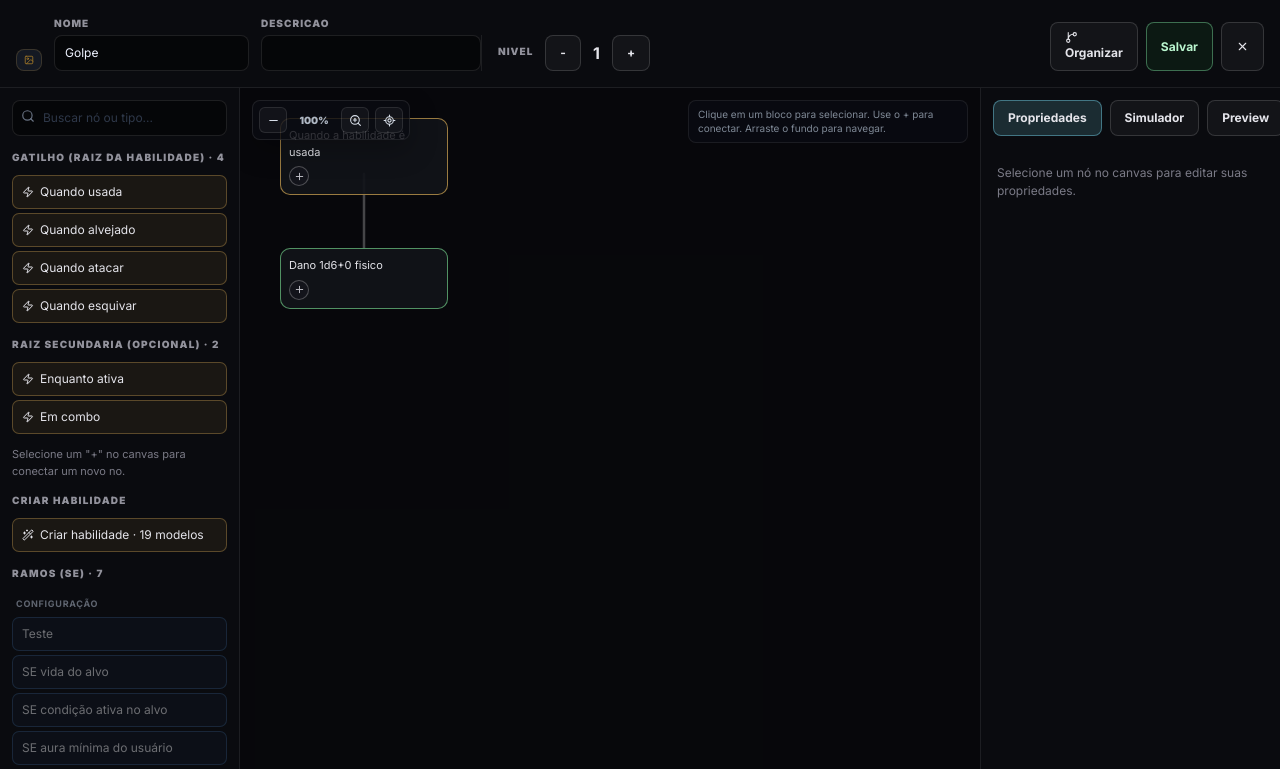
Scenario: GraphEditor › aba Simulador roda a simulação
Click the button "Simulador".
click(1154, 118)  # box top-left (1110, 100), bottom-right (1199, 136)
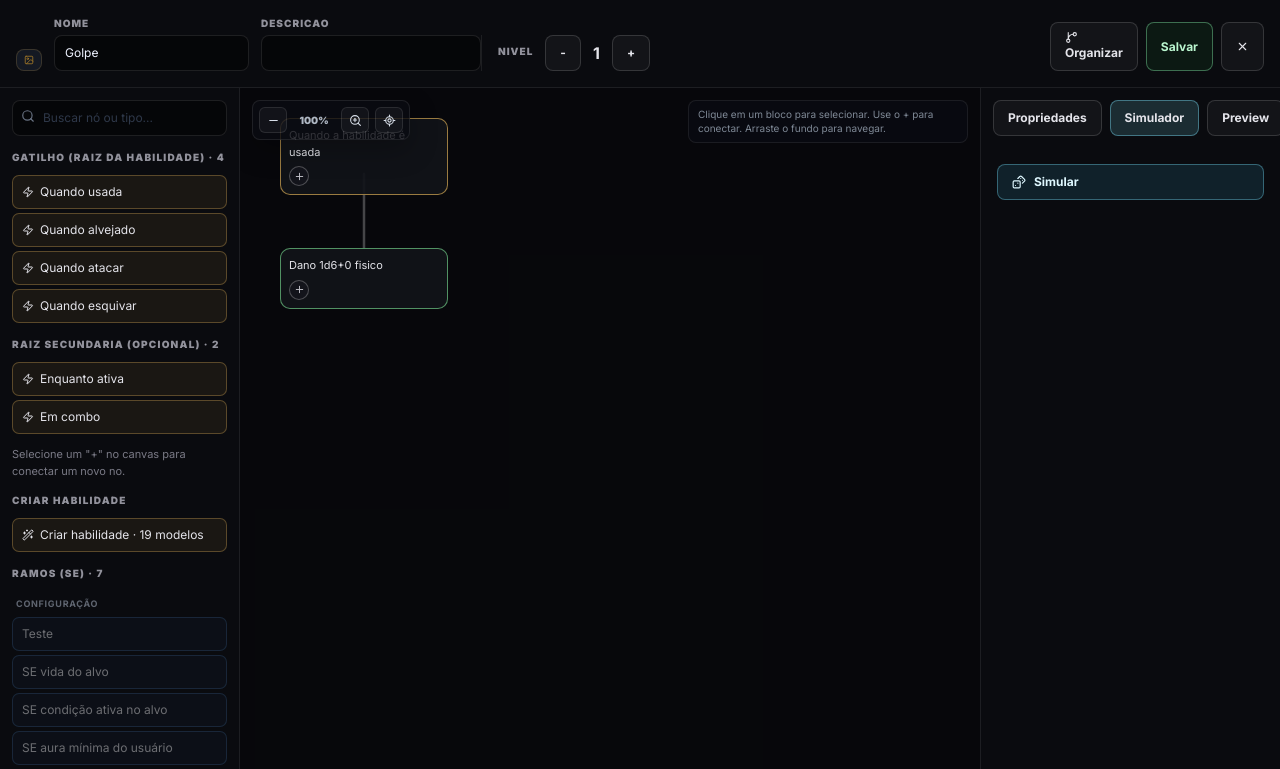
Click the button "Simular".
click(1056, 182)  # box top-left (997, 164), bottom-right (1264, 200)
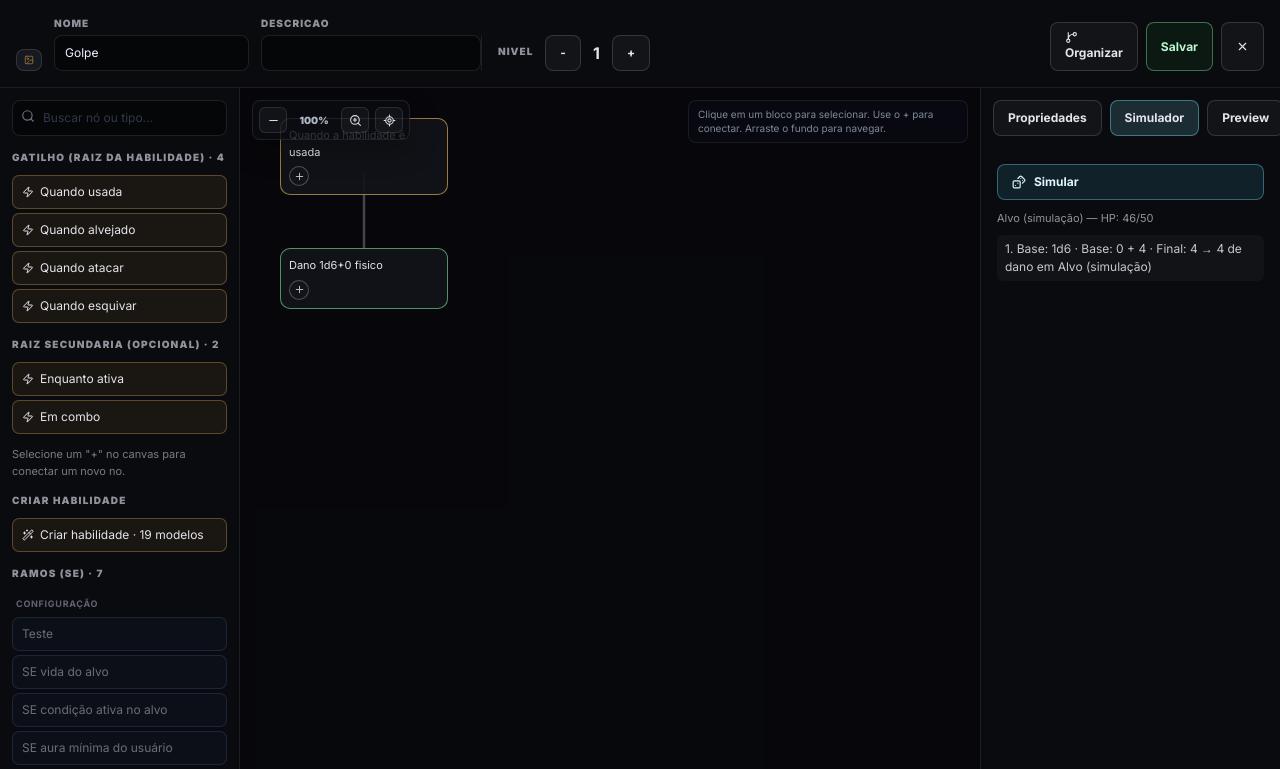
Expected: the text "de dano em" is shown, top-left (1005, 240), bottom-right (1242, 274)
